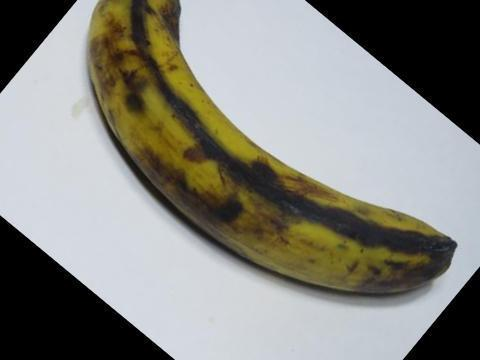overripe: (69, 0, 463, 312)
